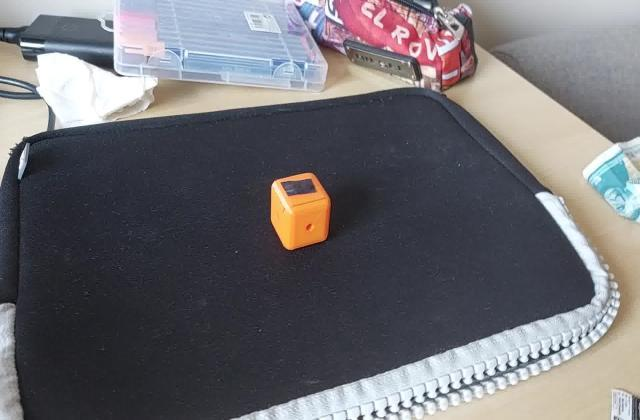black: (277, 177, 317, 200)
cube: (268, 171, 332, 252)
